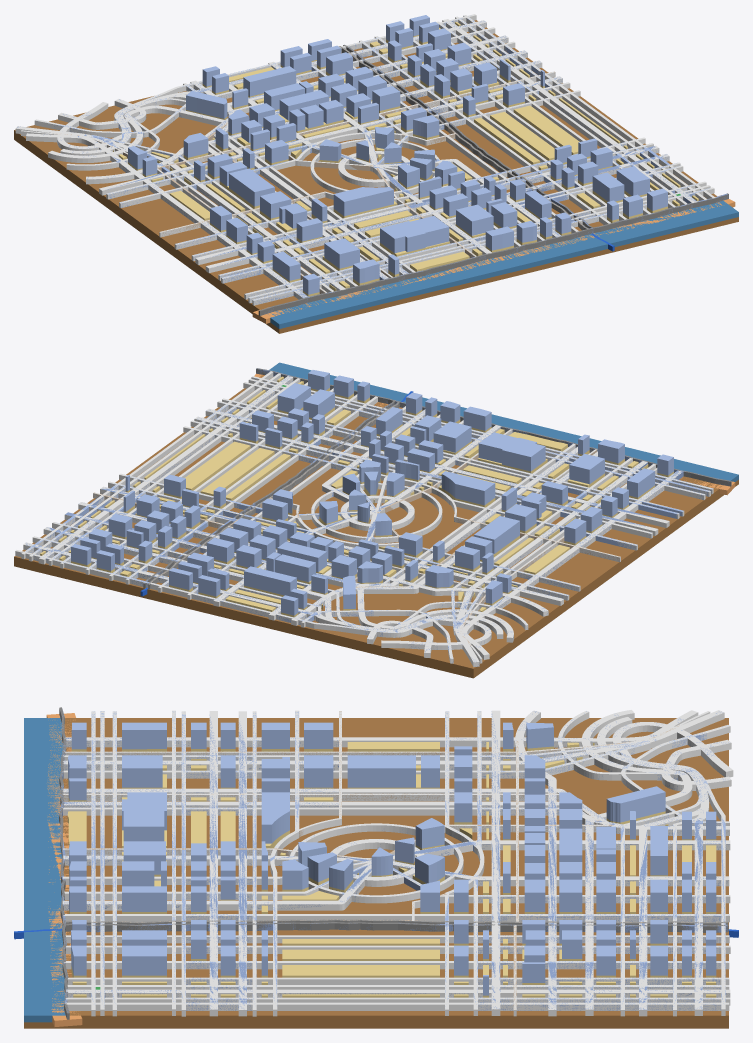
Rendered from city.glb.
3 renders of one model, top to bottom at view 1: azimuth 30°, elevation 25°; view 2: azimuth 150°, elevation 25°; view 3: azimuth 270°, elevation 25°, orthographic. The views are drawn at different scales.
Parts seen in each view (by area): view 1: roads, buildings_divided, ground, blocks, sea, major_roads, main_roads, water_roads, minor_roads, coastline, water_roads_secondary; view 2: roads, buildings_divided, ground, blocks, major_roads, main_roads, sea, water_roads, minor_roads, water_roads_secondary; view 3: roads, buildings_divided, ground, blocks, major_roads, sea, main_roads, water_roads, minor_roads, coastline, water_roads_secondary.
Boxes of the visible parts, x1,y1,x2,y2 form: roads: (15,14,715,305); buildings_divided: (128,15,667,294); ground: (14,20,738,333); blocks: (113,22,698,296); sea: (268,201,738,328); major_roads: (54,16,709,304); main_roads: (17,21,727,312); water_roads: (258,45,728,315); minor_roads: (52,49,582,293); coastline: (252,195,735,323); water_roads_secondary: (339,46,588,230); roads: (15,371,713,667); buildings_divided: (71,370,673,615); ground: (14,375,738,678); blocks: (40,376,673,617); major_roads: (26,378,712,662); main_roads: (26,368,729,666); sea: (269,362,738,481); water_roads: (143,368,731,588); minor_roads: (93,405,656,645); water_roads_secondary: (148,402,399,589); roads: (62,710,733,1016); buildings_divided: (68,722,716,995); ground: (24,718,728,1028); blocks: (67,742,716,997); major_roads: (91,711,728,1010); sea: (24,718,65,1022); main_roads: (59,711,729,1013); water_roads: (59,707,728,1019); minor_roads: (63,711,723,1009); coastline: (46,713,82,1026); water_roads_secondary: (65,919,728,925).
Bounding box in the file's own units: 103 × 6 × 103.
